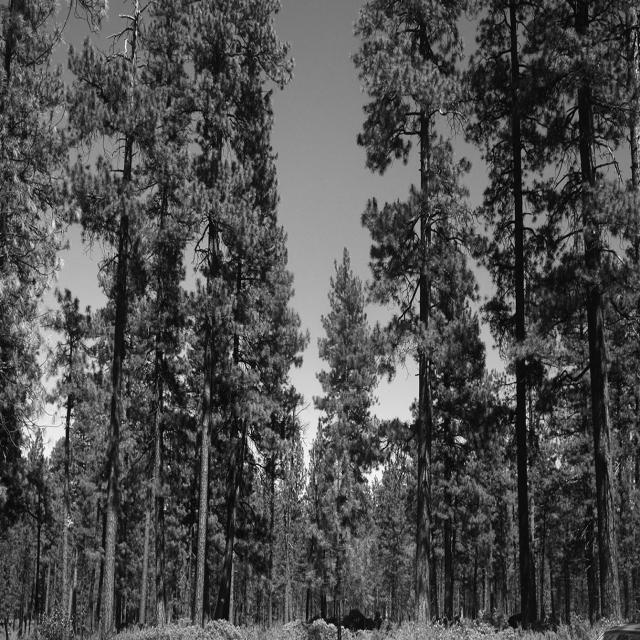Pinus ponderosa: (354, 0, 476, 640), (472, 0, 572, 634), (67, 4, 160, 640), (560, 0, 628, 626), (182, 3, 239, 640), (139, 0, 189, 626), (317, 259, 379, 640), (298, 400, 376, 638)
